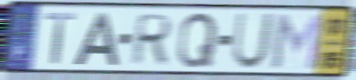A: (71, 11, 120, 68)
M: (270, 12, 325, 72)
Q: (175, 11, 220, 71)
R: (127, 12, 175, 68)
T: (44, 11, 77, 66)
U: (230, 11, 277, 71)
